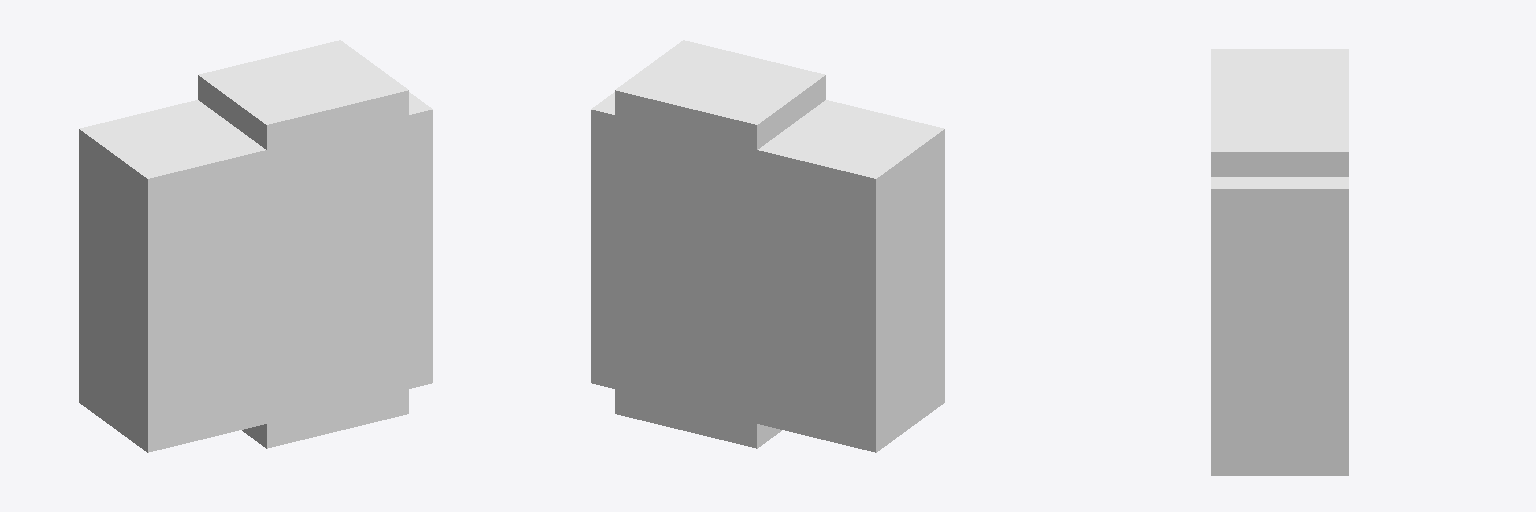
The model's file is ass.obj.
The picture shows the model from 3 angles: view 1: azimuth 30°, elevation 25°; view 2: azimuth 150°, elevation 25°; view 3: azimuth 270°, elevation 25°; orthographic projection.
Size of the model in its own units: 12 by 13 by 5.